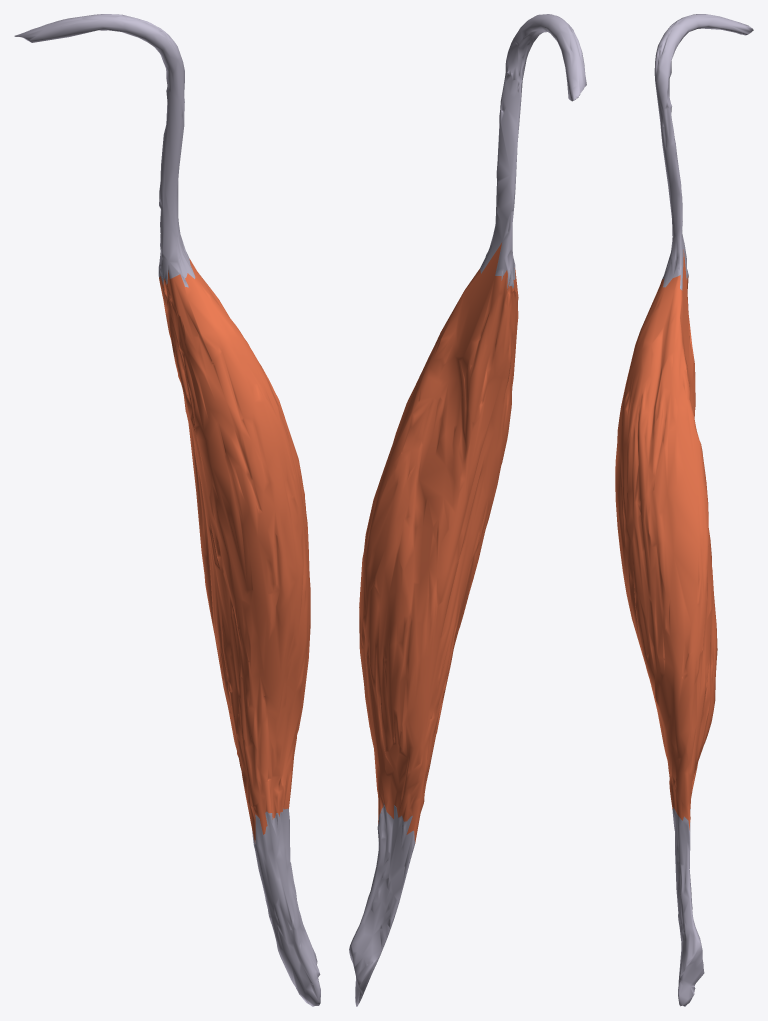
File: Biceps_brachii_long_head_left.glb
3 views of the same model, side by side, from view 1: azimuth 30°, elevation 25°; view 2: azimuth 150°, elevation 25°; view 3: azimuth 270°, elevation 25° (orthographic). The views are drawn at different scales.
Parts seen in each view (by area): view 1: Long_head_of_biceps_brachii.l_Generated_Mesh_From_X3D.381; view 2: Long_head_of_biceps_brachii.l_Generated_Mesh_From_X3D.381; view 3: Long_head_of_biceps_brachii.l_Generated_Mesh_From_X3D.381.
Part boxes in pixels (x1,y1,x2,y2): Long_head_of_biceps_brachii.l_Generated_Mesh_From_X3D.381: [14, 14, 320, 1006]; Long_head_of_biceps_brachii.l_Generated_Mesh_From_X3D.381: [349, 14, 586, 1006]; Long_head_of_biceps_brachii.l_Generated_Mesh_From_X3D.381: [615, 14, 753, 1006].
Size of the model in its own units: 0.0953 by 0.3571 by 0.0498.
